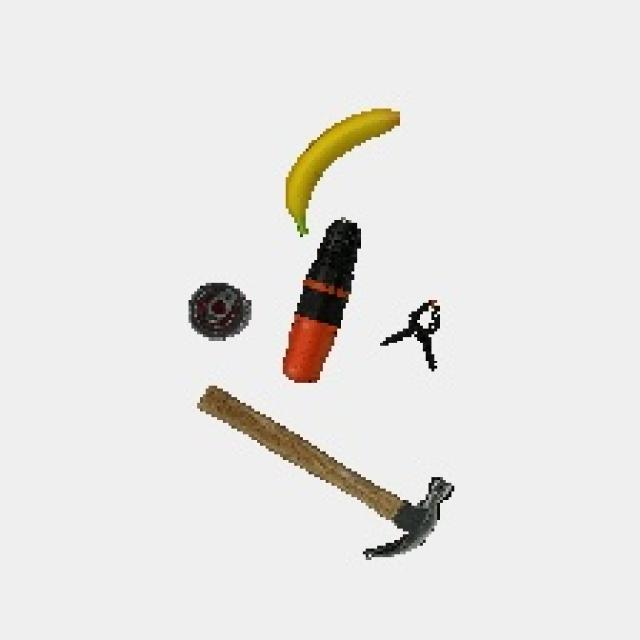Hammer: (192, 382, 459, 577)
MediumClamp: (378, 295, 456, 376)
TomatoSoupCan: (176, 272, 259, 350)
